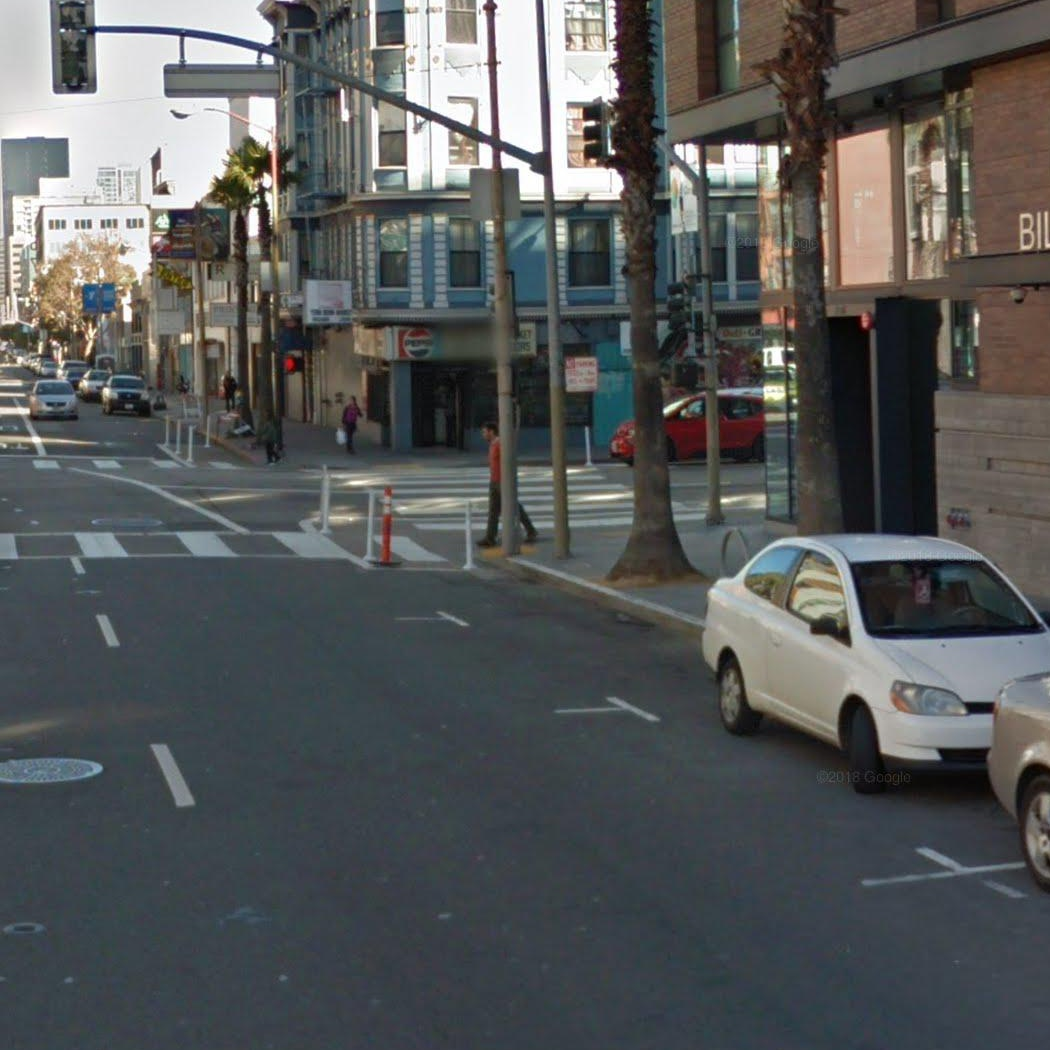No Parking: (562, 354, 600, 395)
